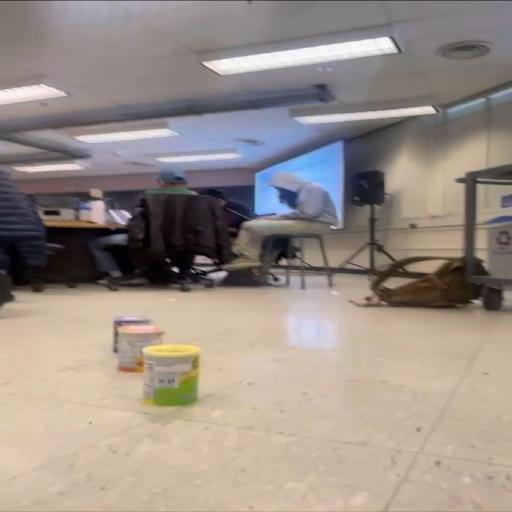pringles: (141, 346, 202, 407), (118, 325, 165, 371)
